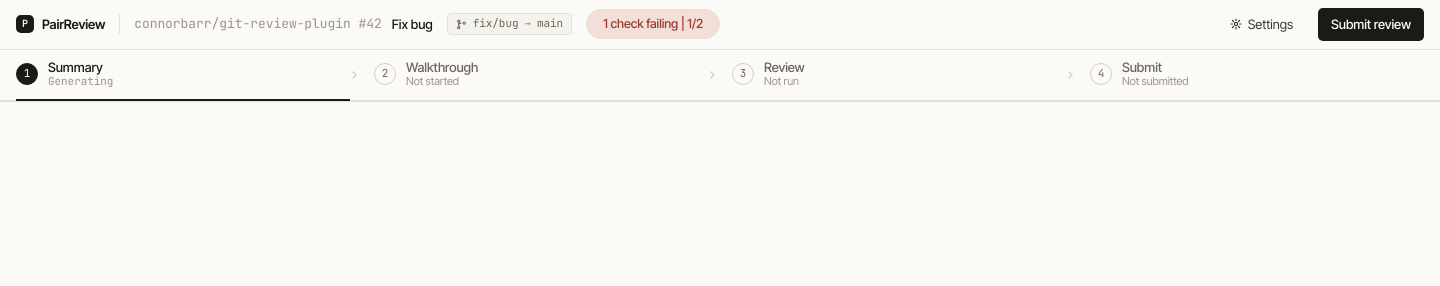
it: TopBar (Phase 06.2 two-row header) › CI pill click-to-expand shows dropdown with check name + rel="noreferrer" links
This screenshot has width=1440, height=286.
Click the button "1 check failing | 1/2" at [653, 24], box [586,9,720,40]
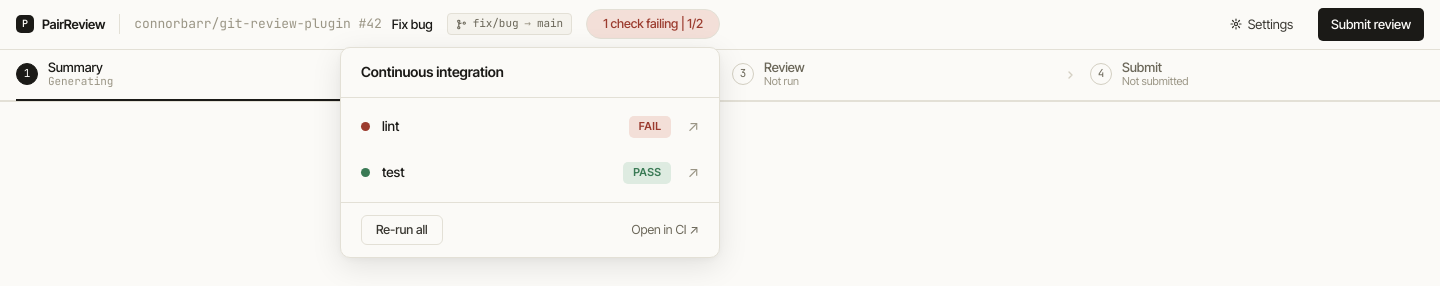
Expected: the text "lint" is shown, [382,117,399,137]
Expected: the text "test" is shown, [382,163,405,182]
